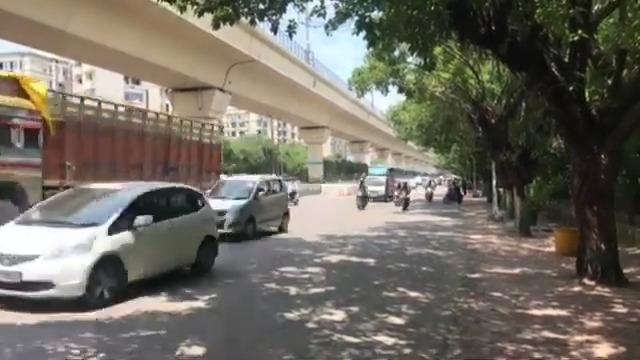Auto: (0, 69, 222, 218)
Bike: (397, 178, 414, 213), (355, 176, 368, 209), (424, 180, 436, 201)
